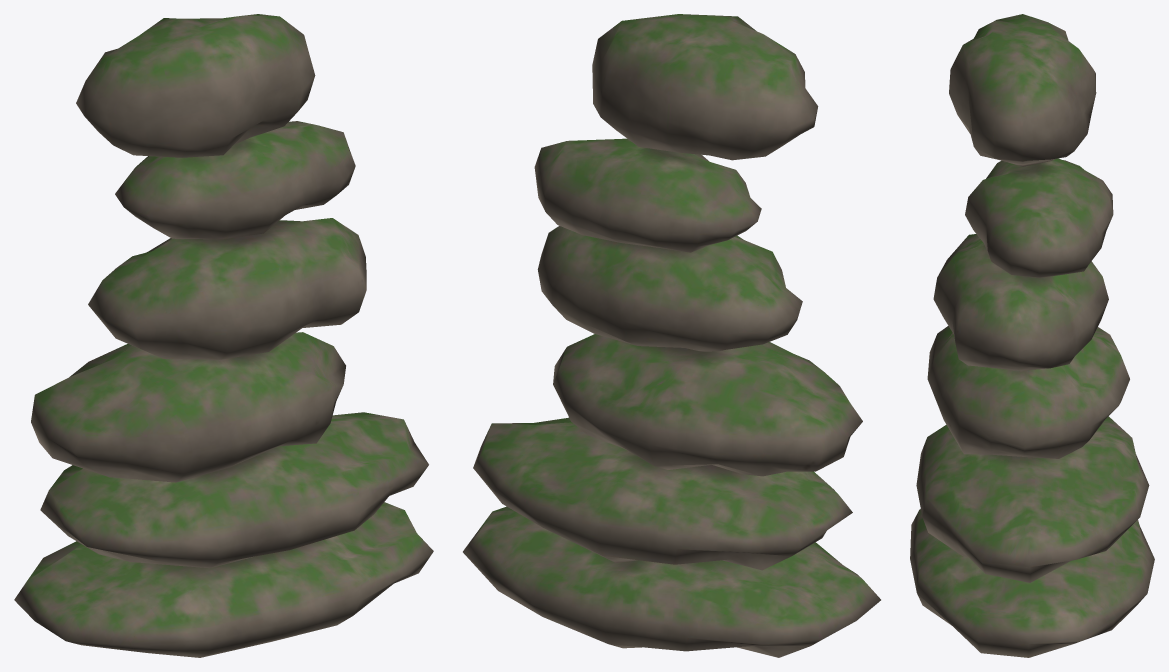
File: cliff.glb
3 renders of one model, left to right at view 1: azimuth 30°, elevation 25°; view 2: azimuth 150°, elevation 25°; view 3: azimuth 270°, elevation 25°, orthographic. The views are drawn at different scales.
Visible parts, largest first — view 1: cliff; view 2: cliff; view 3: cliff.
Part boxes in pixels (x1,y1,x2,y2): cliff: (14, 14, 433, 657); cliff: (463, 14, 880, 657); cliff: (910, 14, 1154, 657).
Size of the model in its own units: 5.98 by 9.06 by 3.65.
1 material, 1 textured.
